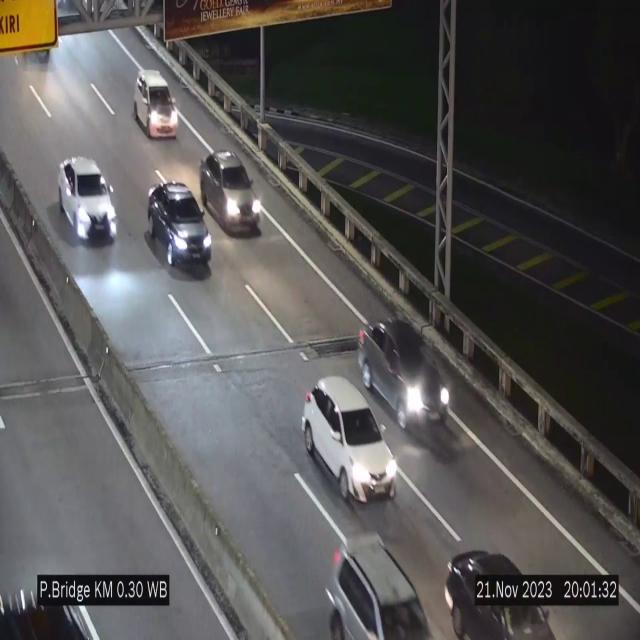Car: (353, 314, 452, 442), (324, 527, 436, 640), (302, 378, 397, 503), (444, 557, 556, 640), (146, 182, 212, 270), (59, 156, 117, 242), (200, 151, 260, 233), (134, 70, 178, 137)
